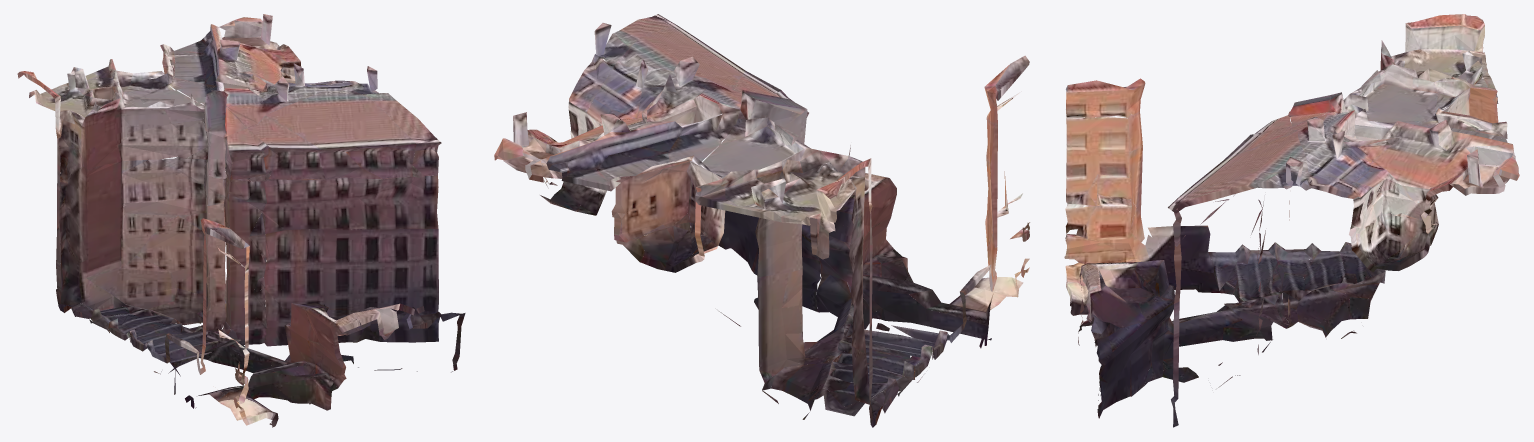
3 renders of one model, left to right at view 1: azimuth 30°, elevation 25°; view 2: azimuth 150°, elevation 25°; view 3: azimuth 270°, elevation 25°, orthographic. The views are drawn at different scales.
Parts seen in each view (by area): view 1: Mesh_0; view 2: Mesh_0; view 3: Mesh_0.
Boxes of the visible parts, box(x1,y1,x2,y2) form: Mesh_0: box(17, 14, 465, 427); Mesh_0: box(494, 14, 1029, 427); Mesh_0: box(1064, 14, 1519, 427).
Size of the model in its own units: 32.97 by 26.64 by 41.53.
Materials: 2 (2 with a texture image).
